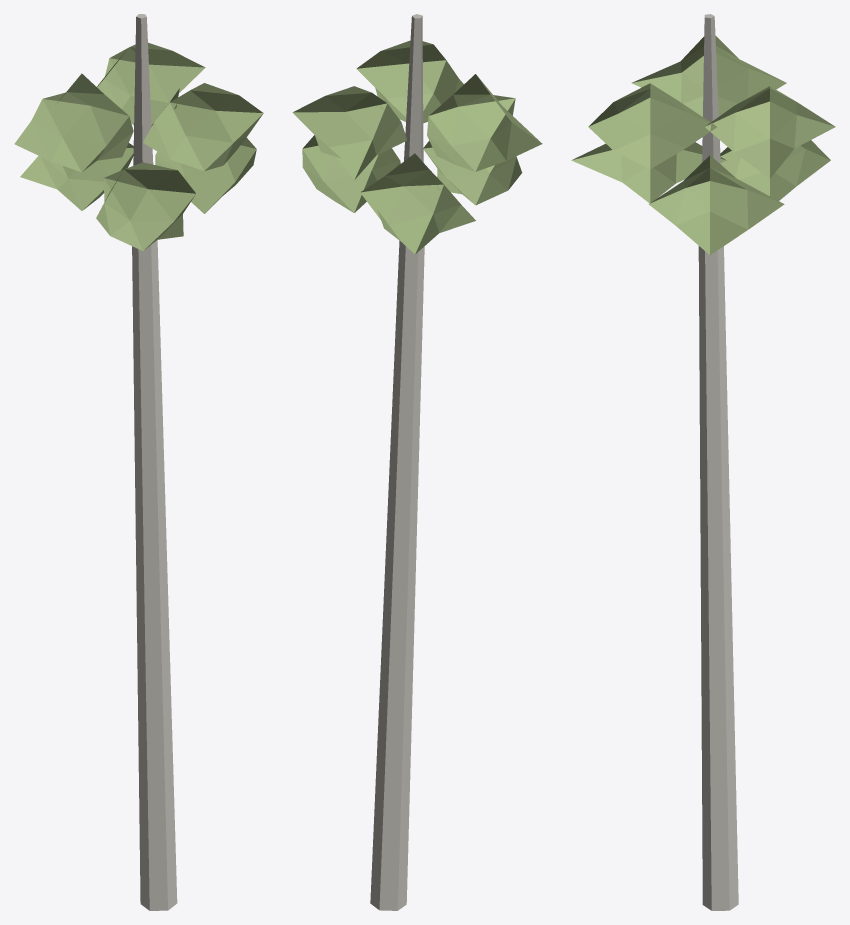
File: birch_v17.glb
The picture shows the model from 3 angles, left to right: view 1: azimuth 30°, elevation 25°; view 2: azimuth 150°, elevation 25°; view 3: azimuth 270°, elevation 25°; orthographic projection. The views are drawn at different scales.
Parts seen in each view (by area): view 1: lod0; view 2: lod0; view 3: lod0.
Part boxes in pixels (box(x1,y1,x2,y2)): lod0: box(14, 14, 263, 910); lod0: box(292, 14, 542, 910); lod0: box(571, 14, 835, 910).
Size of what is drawn, in the model's own units: 1.98 by 7.01 by 1.92.
